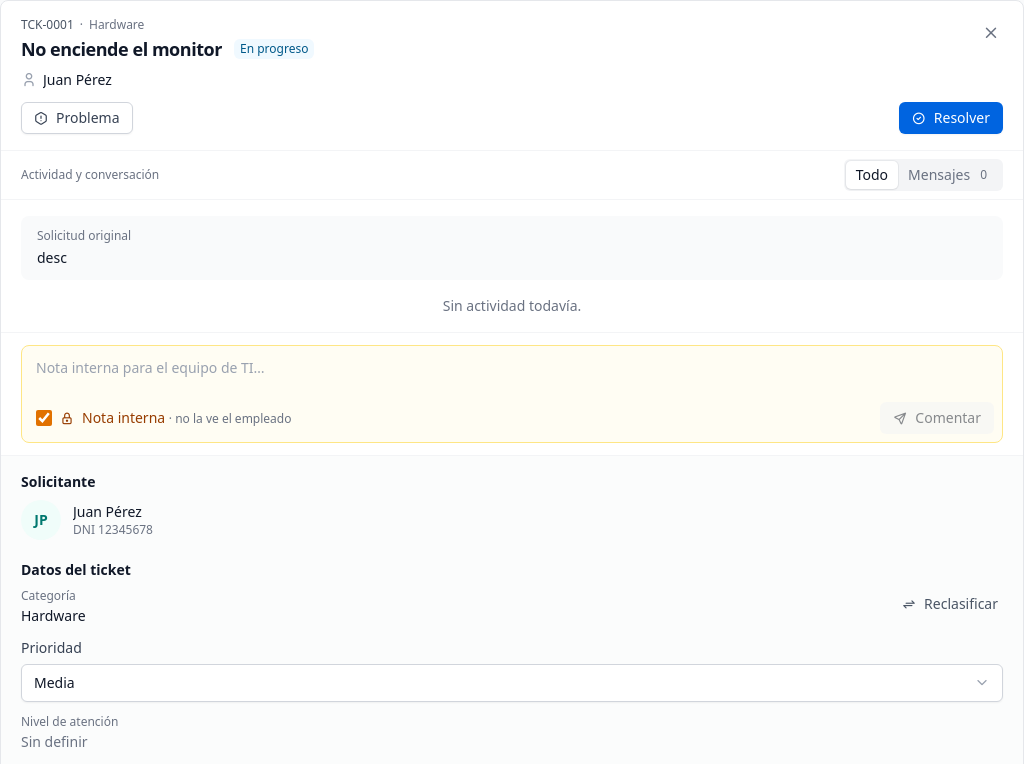
Test: TicketDetallePanel.vue — botones migrados a AppButton (Fase 2) › sin el módulo Base de Conocimiento, Resolver no ofrece guardar la solución en la KB
Click the button "Resolver" at coordinates (951, 118), box [899,102,1003,134]
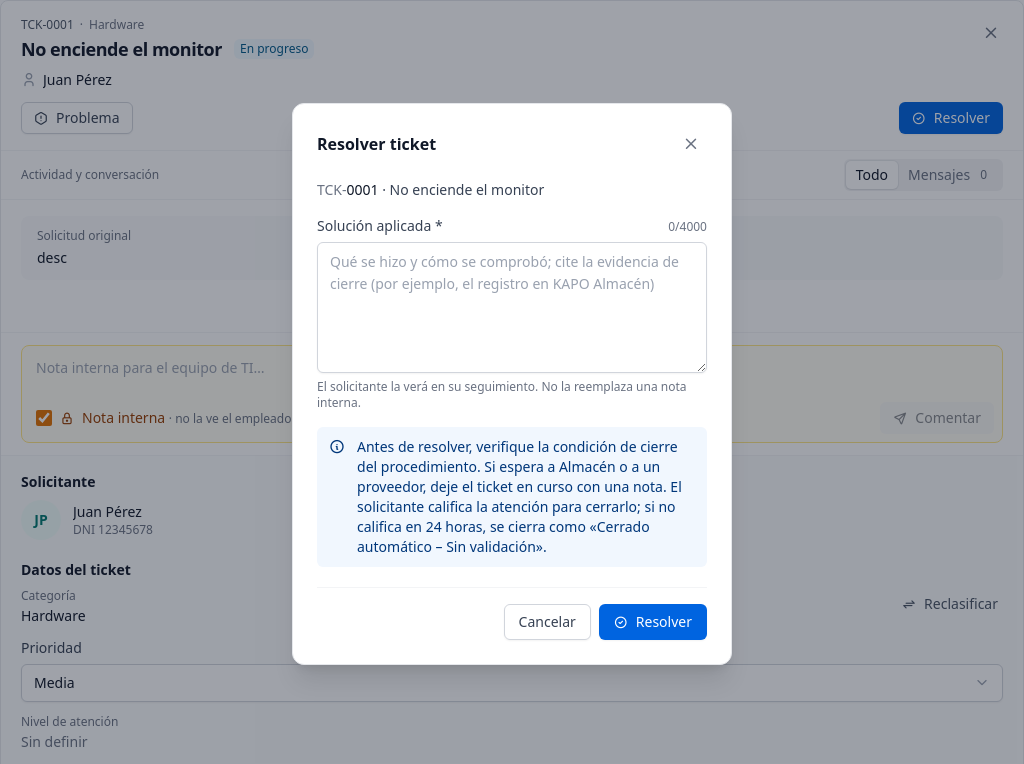
Expected: the text "Solución aplicada" is shown, [317,216,431,235]
